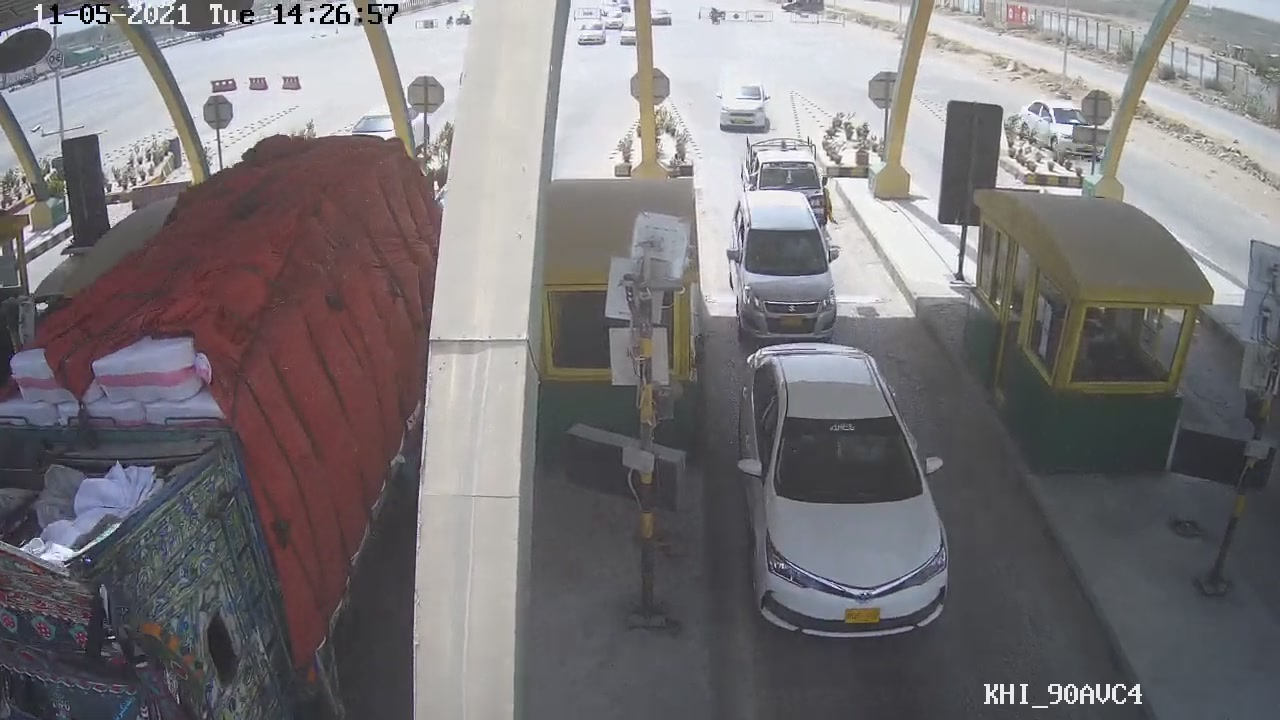F1: (728, 336, 956, 639)
